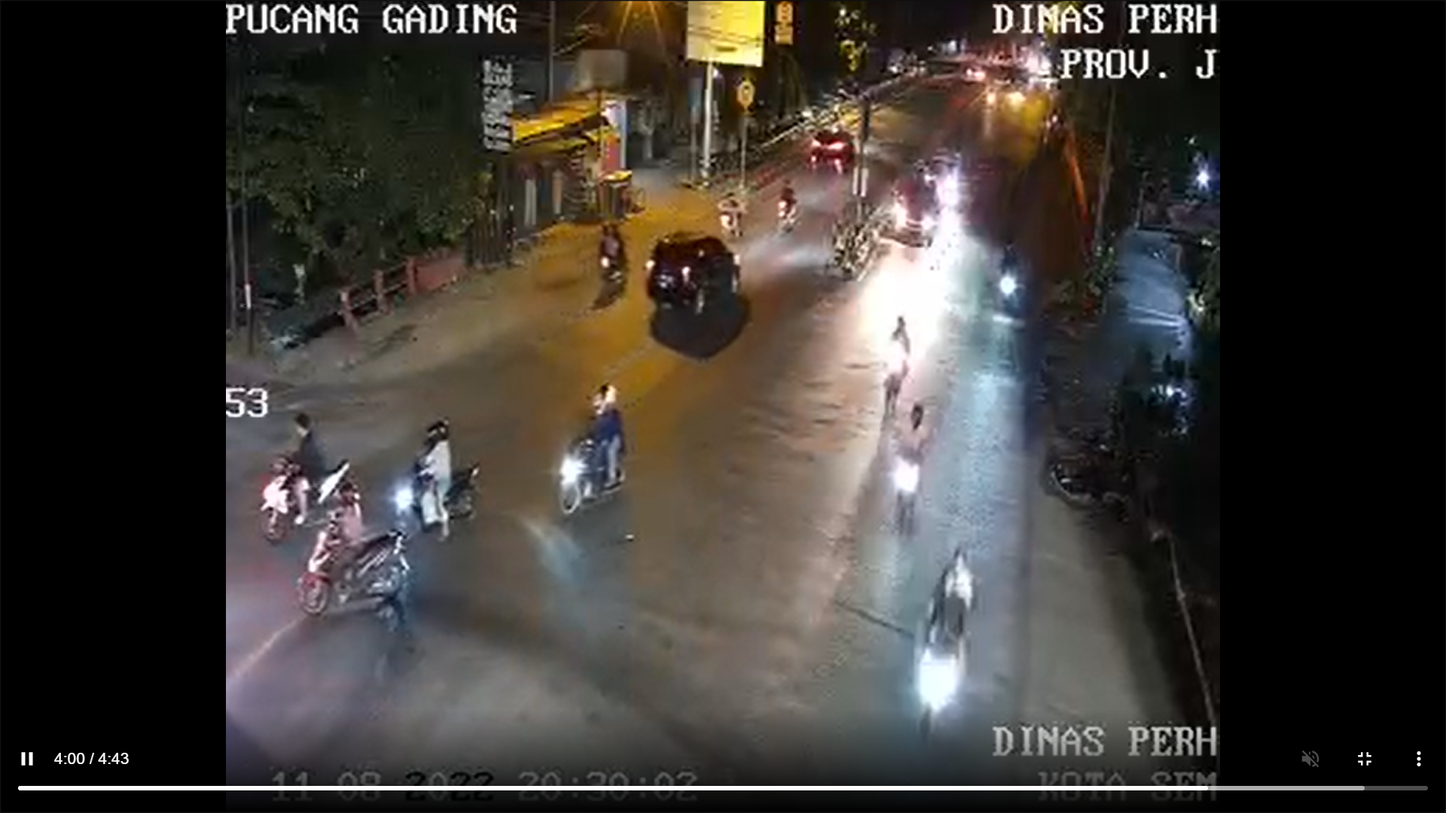with_helmet: (299, 478, 431, 628), (559, 374, 651, 516), (395, 415, 485, 538)
without_helmet: (255, 405, 365, 547)
